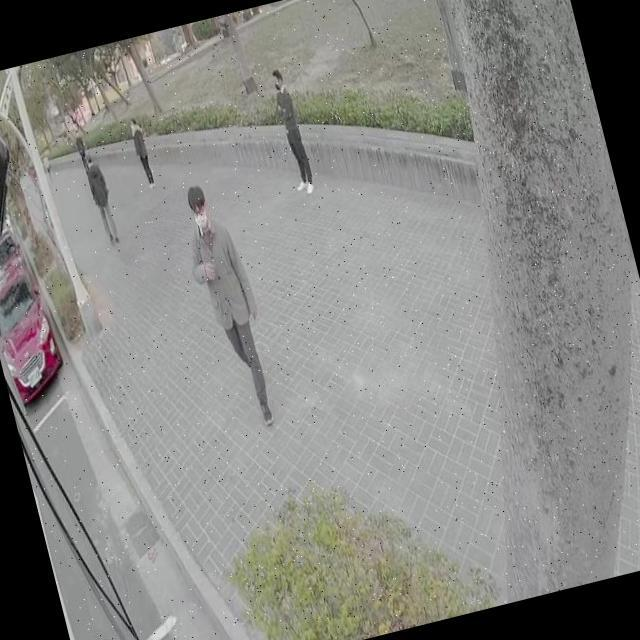person: (176, 178, 287, 438), (268, 68, 316, 194), (83, 152, 122, 246), (128, 120, 156, 190), (44, 220, 70, 281), (72, 128, 91, 172)
